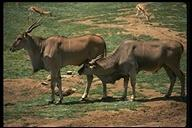antelope: (8, 18, 108, 101), (76, 38, 187, 103), (24, 5, 54, 26), (133, 3, 153, 23)
grass: (58, 4, 122, 29), (156, 4, 185, 30)
